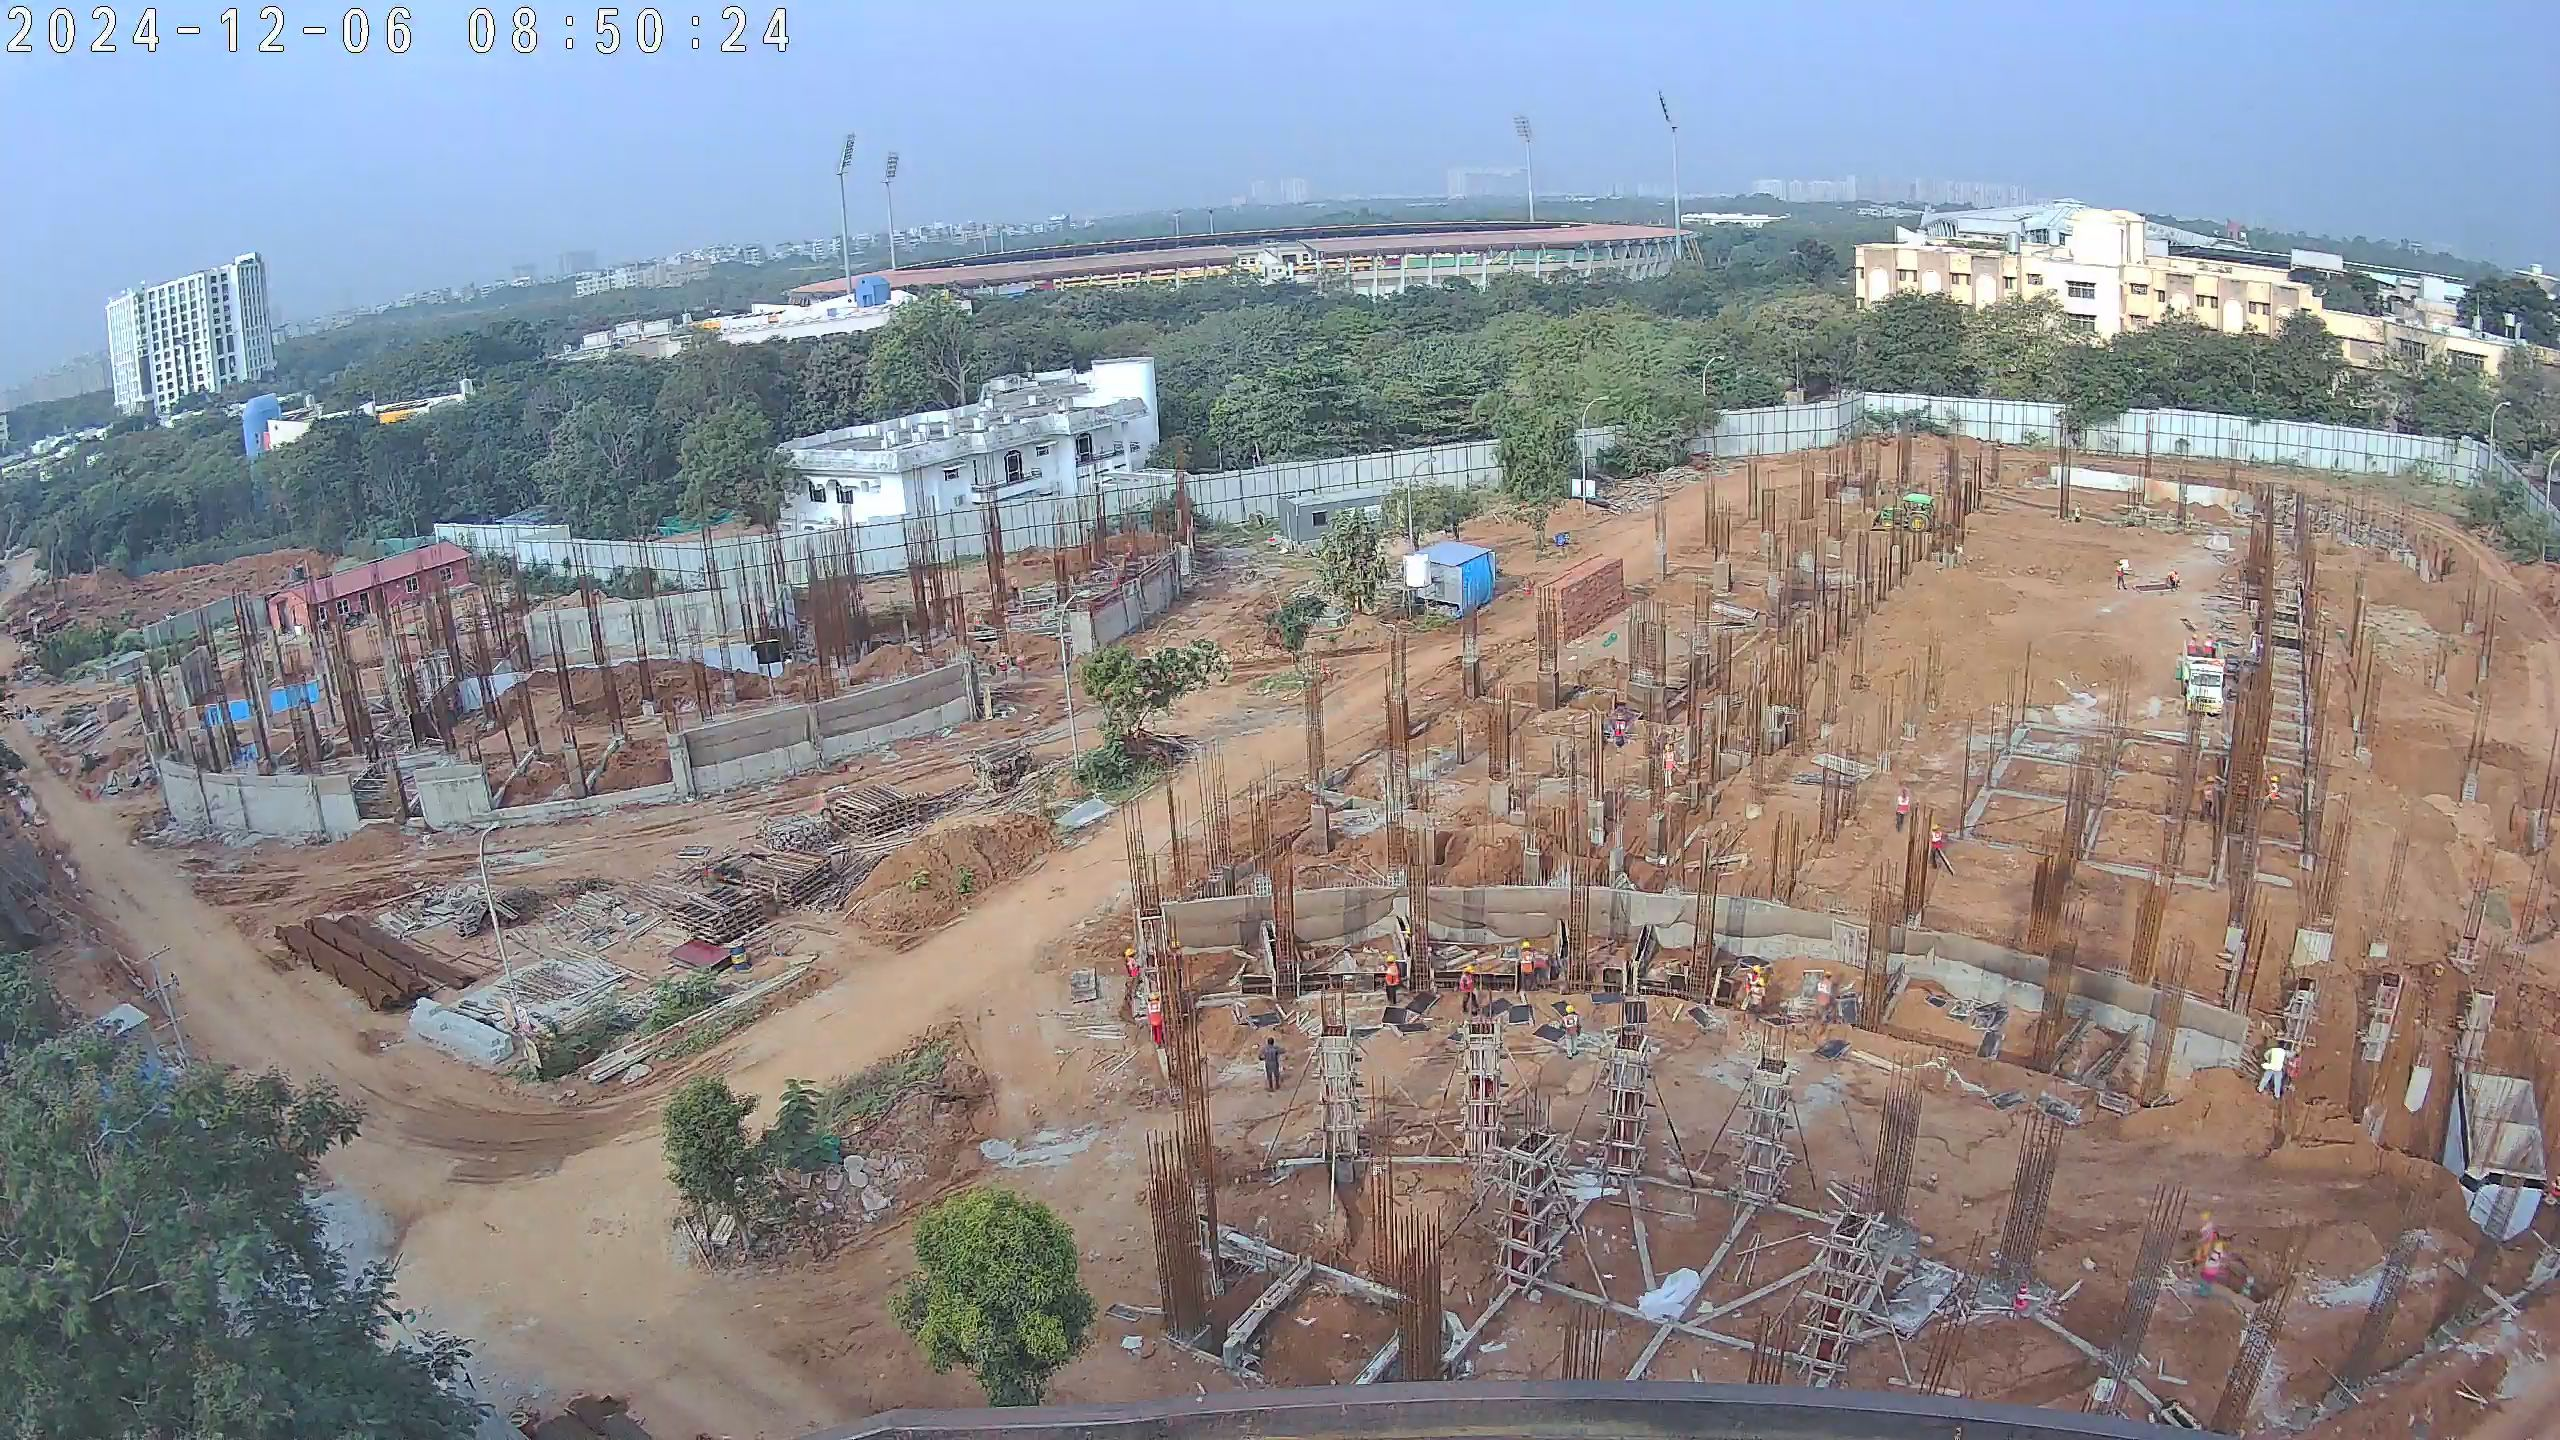bulldozer: (1865, 487, 1939, 539)
truck: (2175, 639, 2229, 723), (1255, 1032, 1291, 1099), (1809, 966, 1838, 1033), (1925, 820, 1958, 877), (1656, 737, 1684, 799), (2196, 771, 2220, 824), (2261, 768, 2286, 815), (2111, 557, 2129, 595), (2200, 632, 2220, 666), (2184, 629, 2202, 665), (2165, 565, 2183, 594)
worker: (2193, 1220, 2233, 1302), (1377, 950, 1408, 1020), (1139, 1016, 1175, 1074), (1458, 962, 1491, 1025), (1112, 945, 1149, 1000), (1735, 966, 1770, 1022), (2260, 1035, 2289, 1100), (1887, 782, 1915, 837), (1520, 937, 1543, 1000), (967, 608, 989, 638), (995, 648, 1011, 681), (1014, 646, 1030, 679), (1007, 575, 1024, 606)
